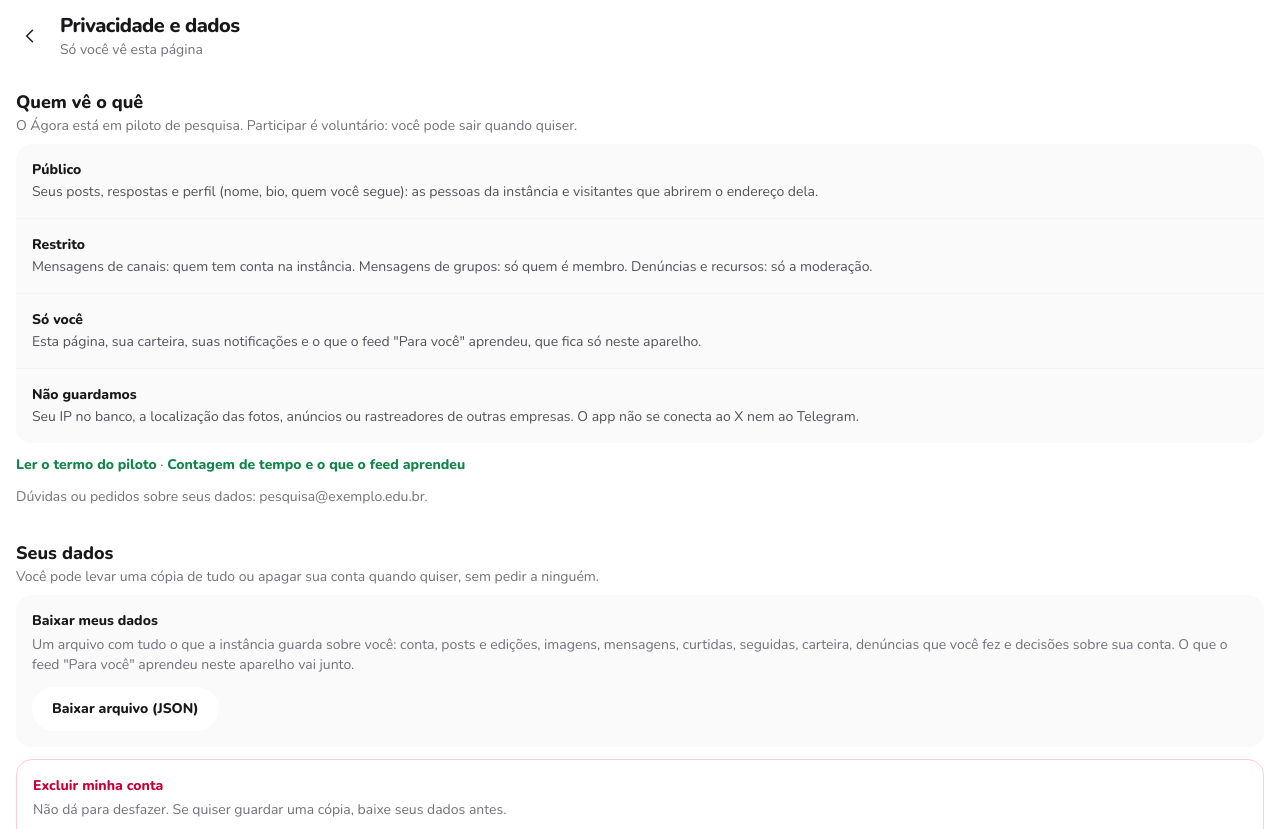
Test: privacidade e dados › baixar meus dados gera um arquivo JSON com o nome da conta e a data
Expected: the heading "Privacidade e dados" is shown, [60,12,240,39]
Step 1. Click the button "Baixar arquivo (JSON)" → (125, 709), box [32,687,219,731]
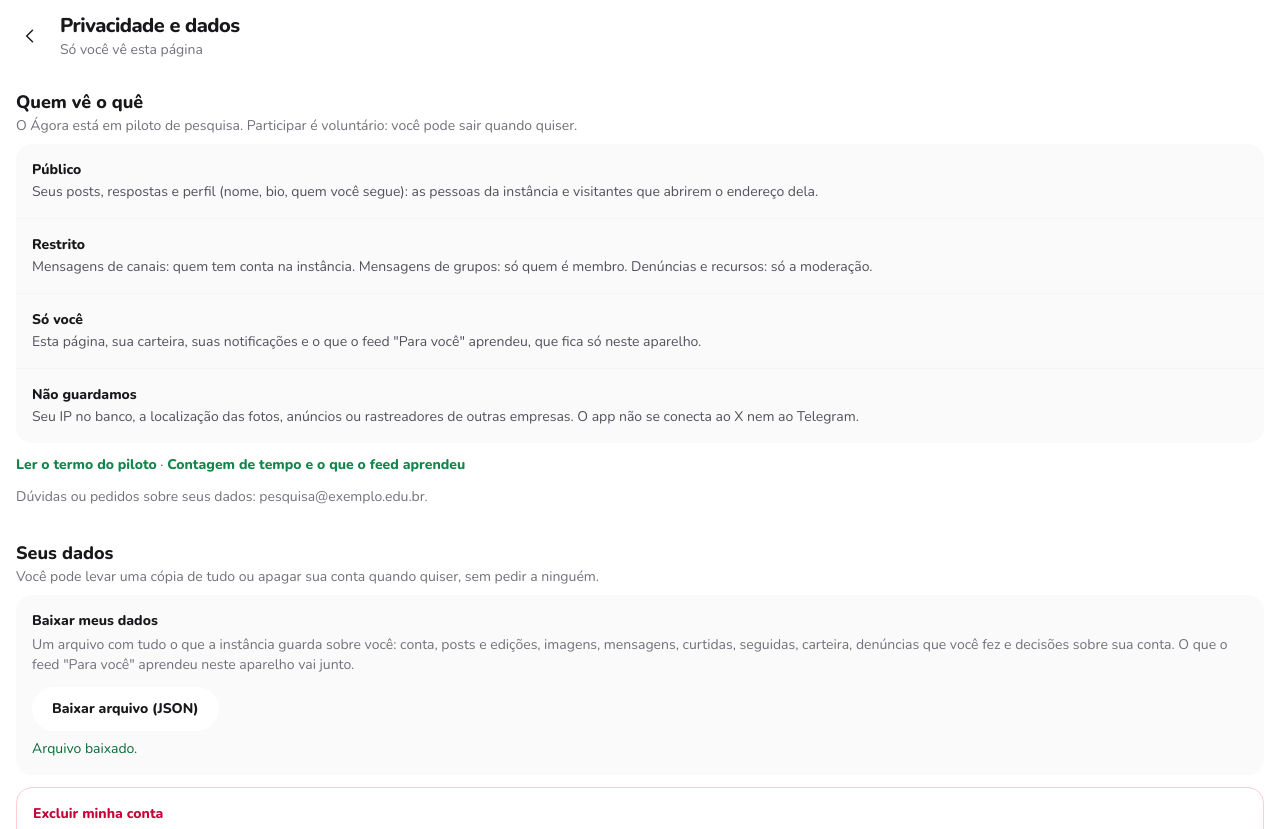
Now the text "Arquivo baixado." is shown, box [32,739,137,758]
